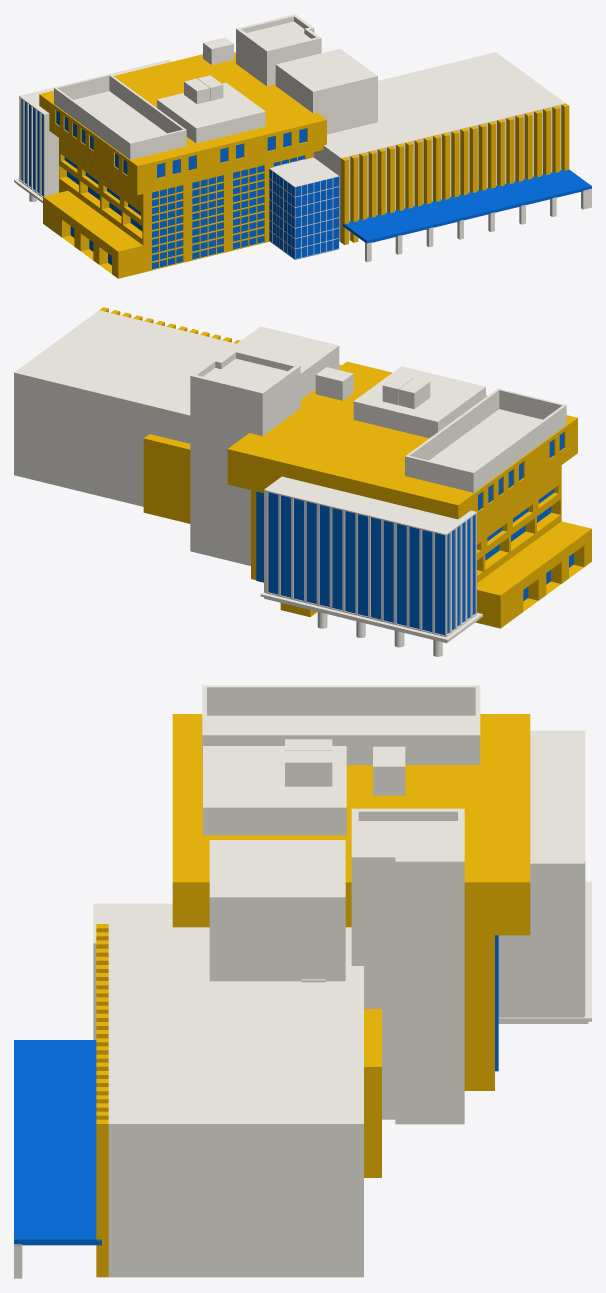
Rendered from 복지관.fbx.
3 renders of one model, top to bottom at view 1: azimuth 30°, elevation 25°; view 2: azimuth 150°, elevation 25°; view 3: azimuth 270°, elevation 25°, orthographic. The views are drawn at different scales.
Visible parts, largest first — view 1: Cube_23, Cube_127, Cube_24, Cube_21, 학생회관_3, Cube_131, Cube_133, Cube_22, Cube_27, Cube_128, 학생회관_7, 학생회관_4 (+8 smaller); view 2: Cube_23, Cube_24, Cube_55, 학생회관_7, Cube_25, 학생회관_3, Cube_128, Cube_21, 학생회관_4, 학생회관_11, Cube_22, 학생회관_8 (+5 smaller); view 3: Cube_23, 학생회관_7, Cube_24, Cube_22, 학생회관_3, Cube_133, 학생회관_1, 학생회관_4, Cube_25, Cube_21, Cube_127, 학생회관_11 (+3 smaller).
Part boxes in pixels (x1,y1,x2,y2): Cube_23: (313, 52, 565, 242); Cube_127: (341, 103, 569, 244); Cube_24: (39, 52, 326, 195); Cube_21: (59, 138, 313, 272); 학생회관_3: (54, 74, 186, 159); Cube_131: (67, 155, 304, 269); Cube_133: (343, 169, 591, 243); Cube_22: (275, 48, 377, 134); Cube_27: (269, 169, 338, 259); Cube_128: (43, 190, 146, 278); 학생회관_7: (236, 14, 321, 86); 학생회관_4: (157, 82, 265, 143); Cube_23: (14, 310, 236, 506); Cube_24: (227, 361, 577, 526); Cube_55: (268, 492, 475, 635); 학생회관_7: (190, 349, 300, 565); Cube_25: (260, 477, 482, 643); 학생회관_3: (405, 388, 566, 492); Cube_128: (475, 521, 591, 628); Cube_21: (251, 465, 561, 616); 학생회관_4: (353, 366, 485, 438); 학생회관_11: (143, 434, 190, 523); Cube_22: (216, 326, 339, 399); 학생회관_8: (315, 367, 353, 400); Cube_23: (108, 924, 363, 1277); 학생회관_7: (351, 808, 464, 1124); Cube_24: (172, 714, 530, 935); Cube_22: (209, 840, 345, 981); 학생회관_3: (202, 685, 480, 764); Cube_133: (14, 1040, 101, 1245); 학생회관_1: (498, 861, 584, 1017); 학생회관_4: (203, 746, 346, 835); Cube_25: (498, 730, 591, 1023); Cube_21: (464, 935, 494, 1090); Cube_127: (96, 924, 108, 1277); 학생회관_11: (364, 1009, 381, 1177).
Size of the model in its own units: 1317 by 520 by 850.
